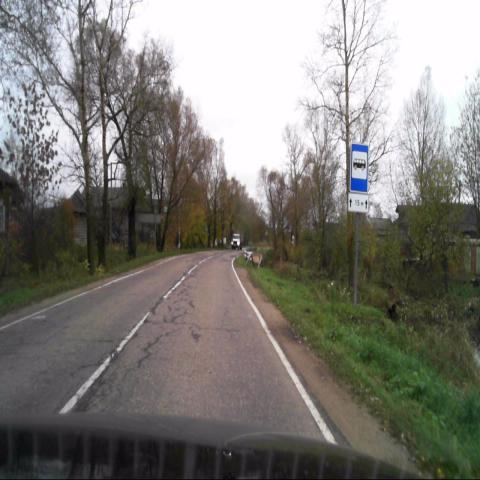8_2_1: (348, 193, 368, 213)
